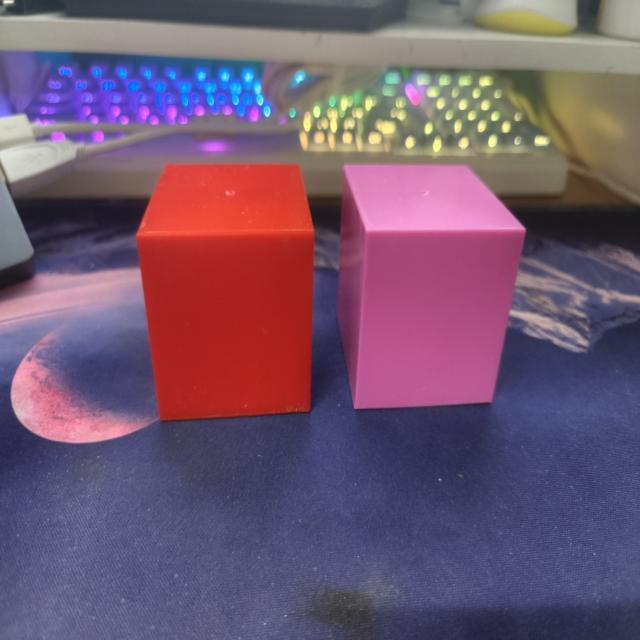pink: (337, 164, 526, 414)
red: (135, 163, 316, 425)
